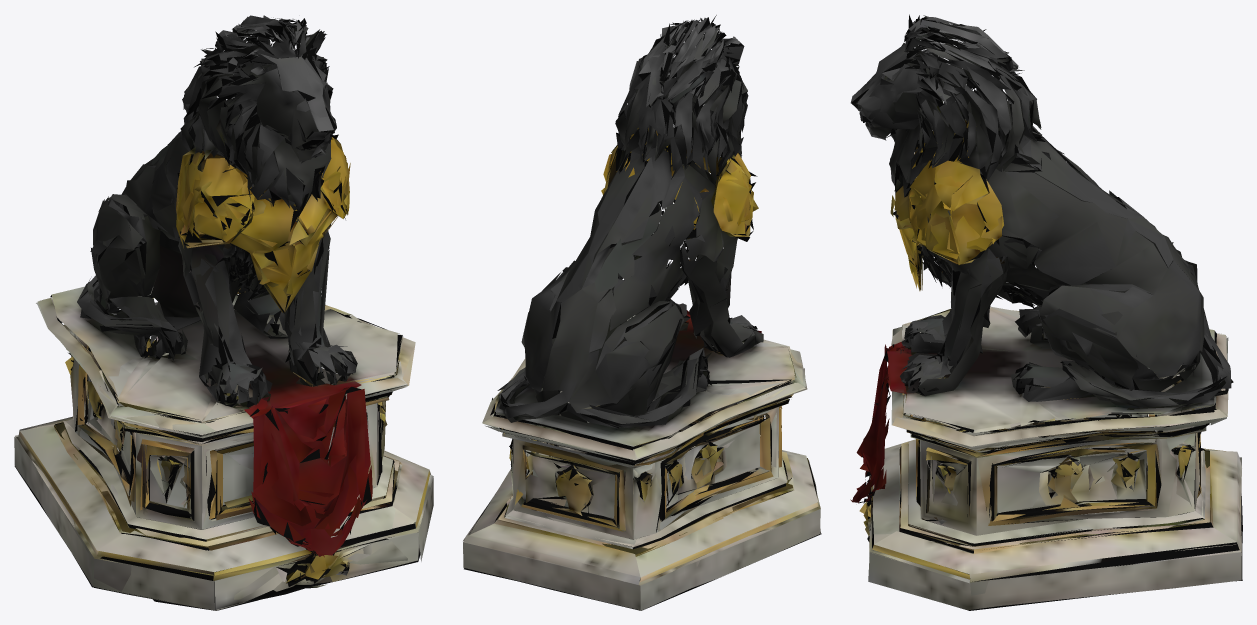
Rendered from town_lion.glb.
3 views of the same model, side by side, from view 1: azimuth 30°, elevation 25°; view 2: azimuth 150°, elevation 25°; view 3: azimuth 270°, elevation 25° (orthographic). The views are drawn at different scales.
Visible parts, largest first — view 1: town_lion; view 2: town_lion; view 3: town_lion.
Part boxes in pixels (<box>): town_lion: <box>14,15,433,610</box>; town_lion: <box>463,15,821,610</box>; town_lion: <box>850,14,1242,610</box>.
Size of the model in its own units: 2.94 by 4.52 by 3.14.
Materials: 1 (1 with a texture image).
